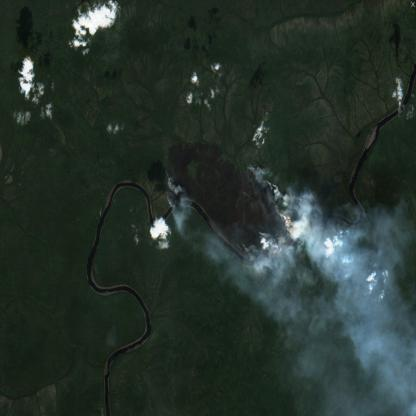fire: (266, 169, 315, 259)
